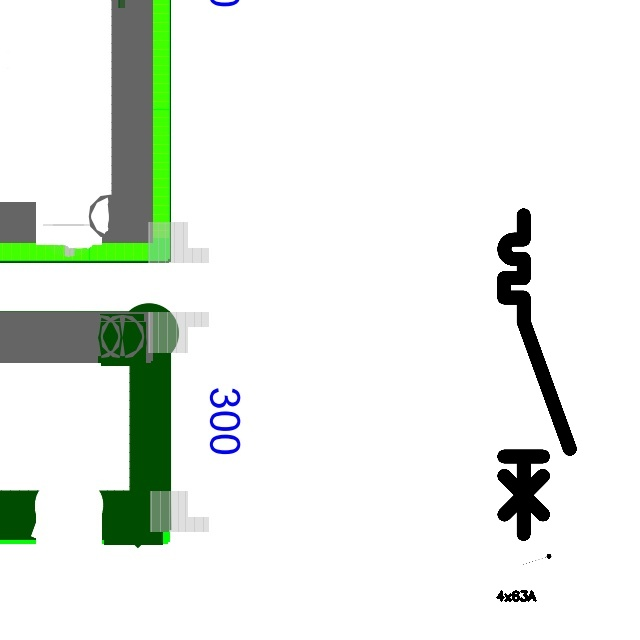interruptor_termomagnetico: (496, 207, 578, 542)
